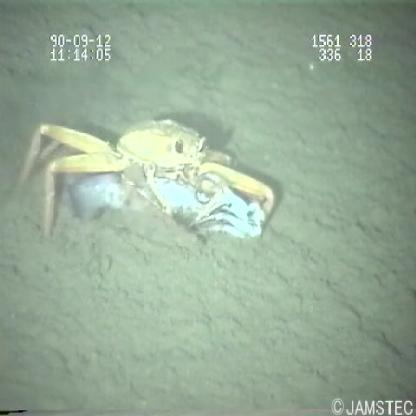Bio: (20, 112, 279, 253)
